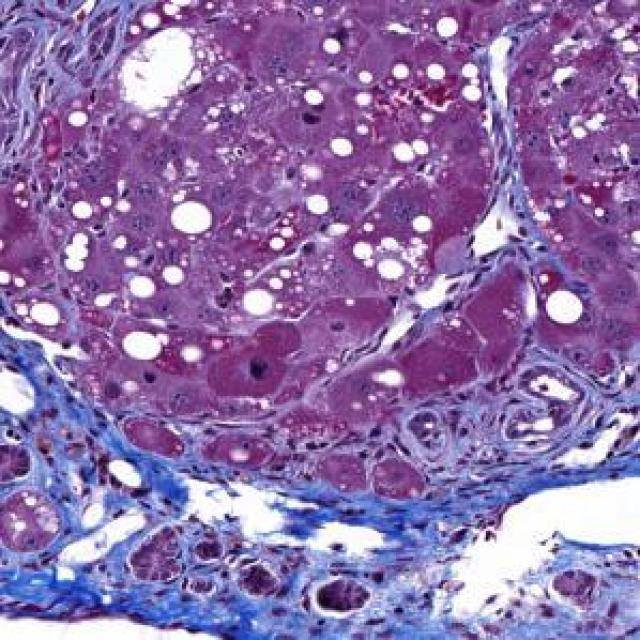fibrosis: (77, 456, 458, 633), (19, 366, 261, 537), (458, 360, 640, 488)
